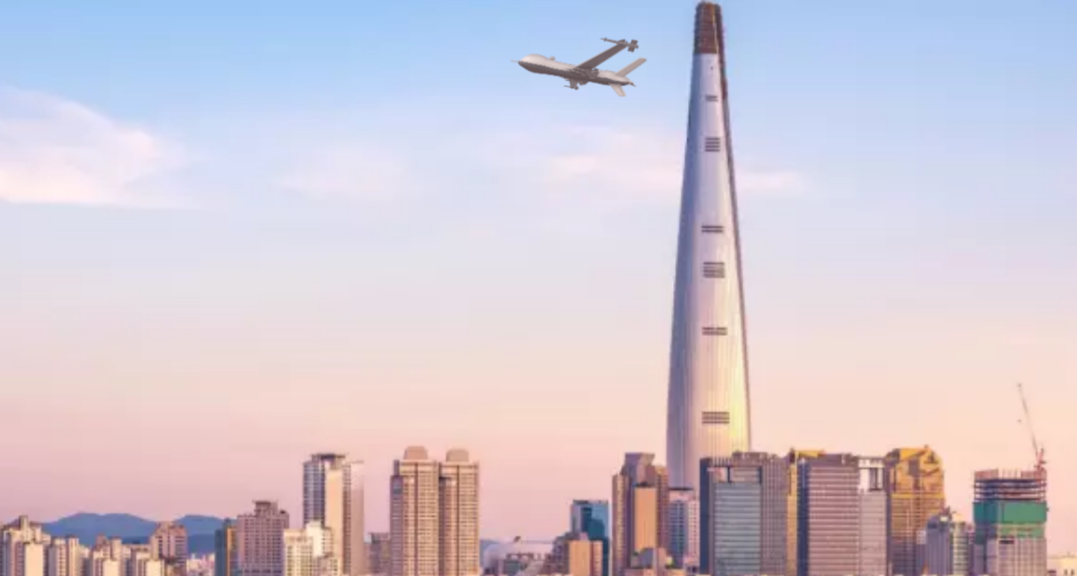military drone: (511, 36, 646, 97)
